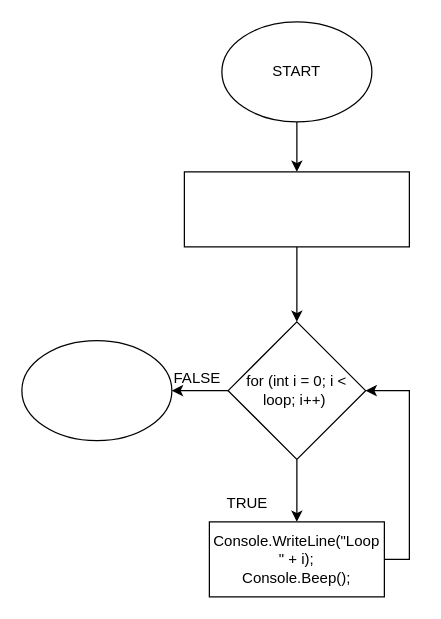
Image size: 441x619. Some labels were removed from this diagram. The shapes that lost their labels are listed below. From the top down, each one's centre as x and y in pixels, then its label:
[296,209]: Console.WriteLine("Hello, World!"); int loop = 2;
[96,390]: END
